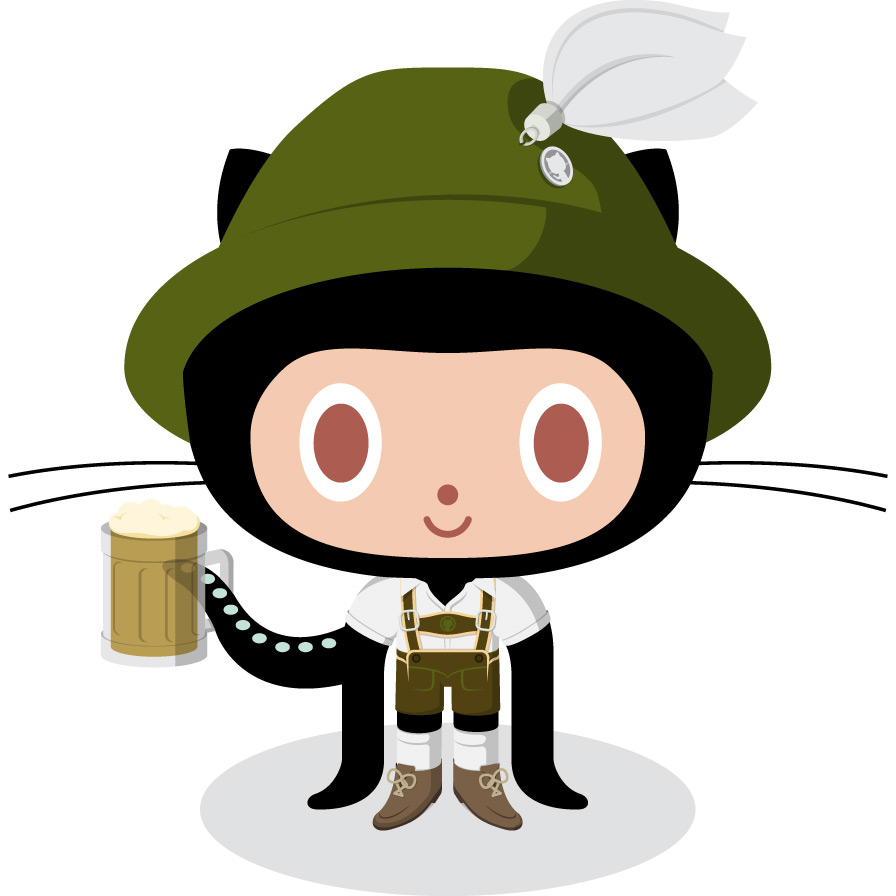oktobercat: (98, 8, 775, 833)
